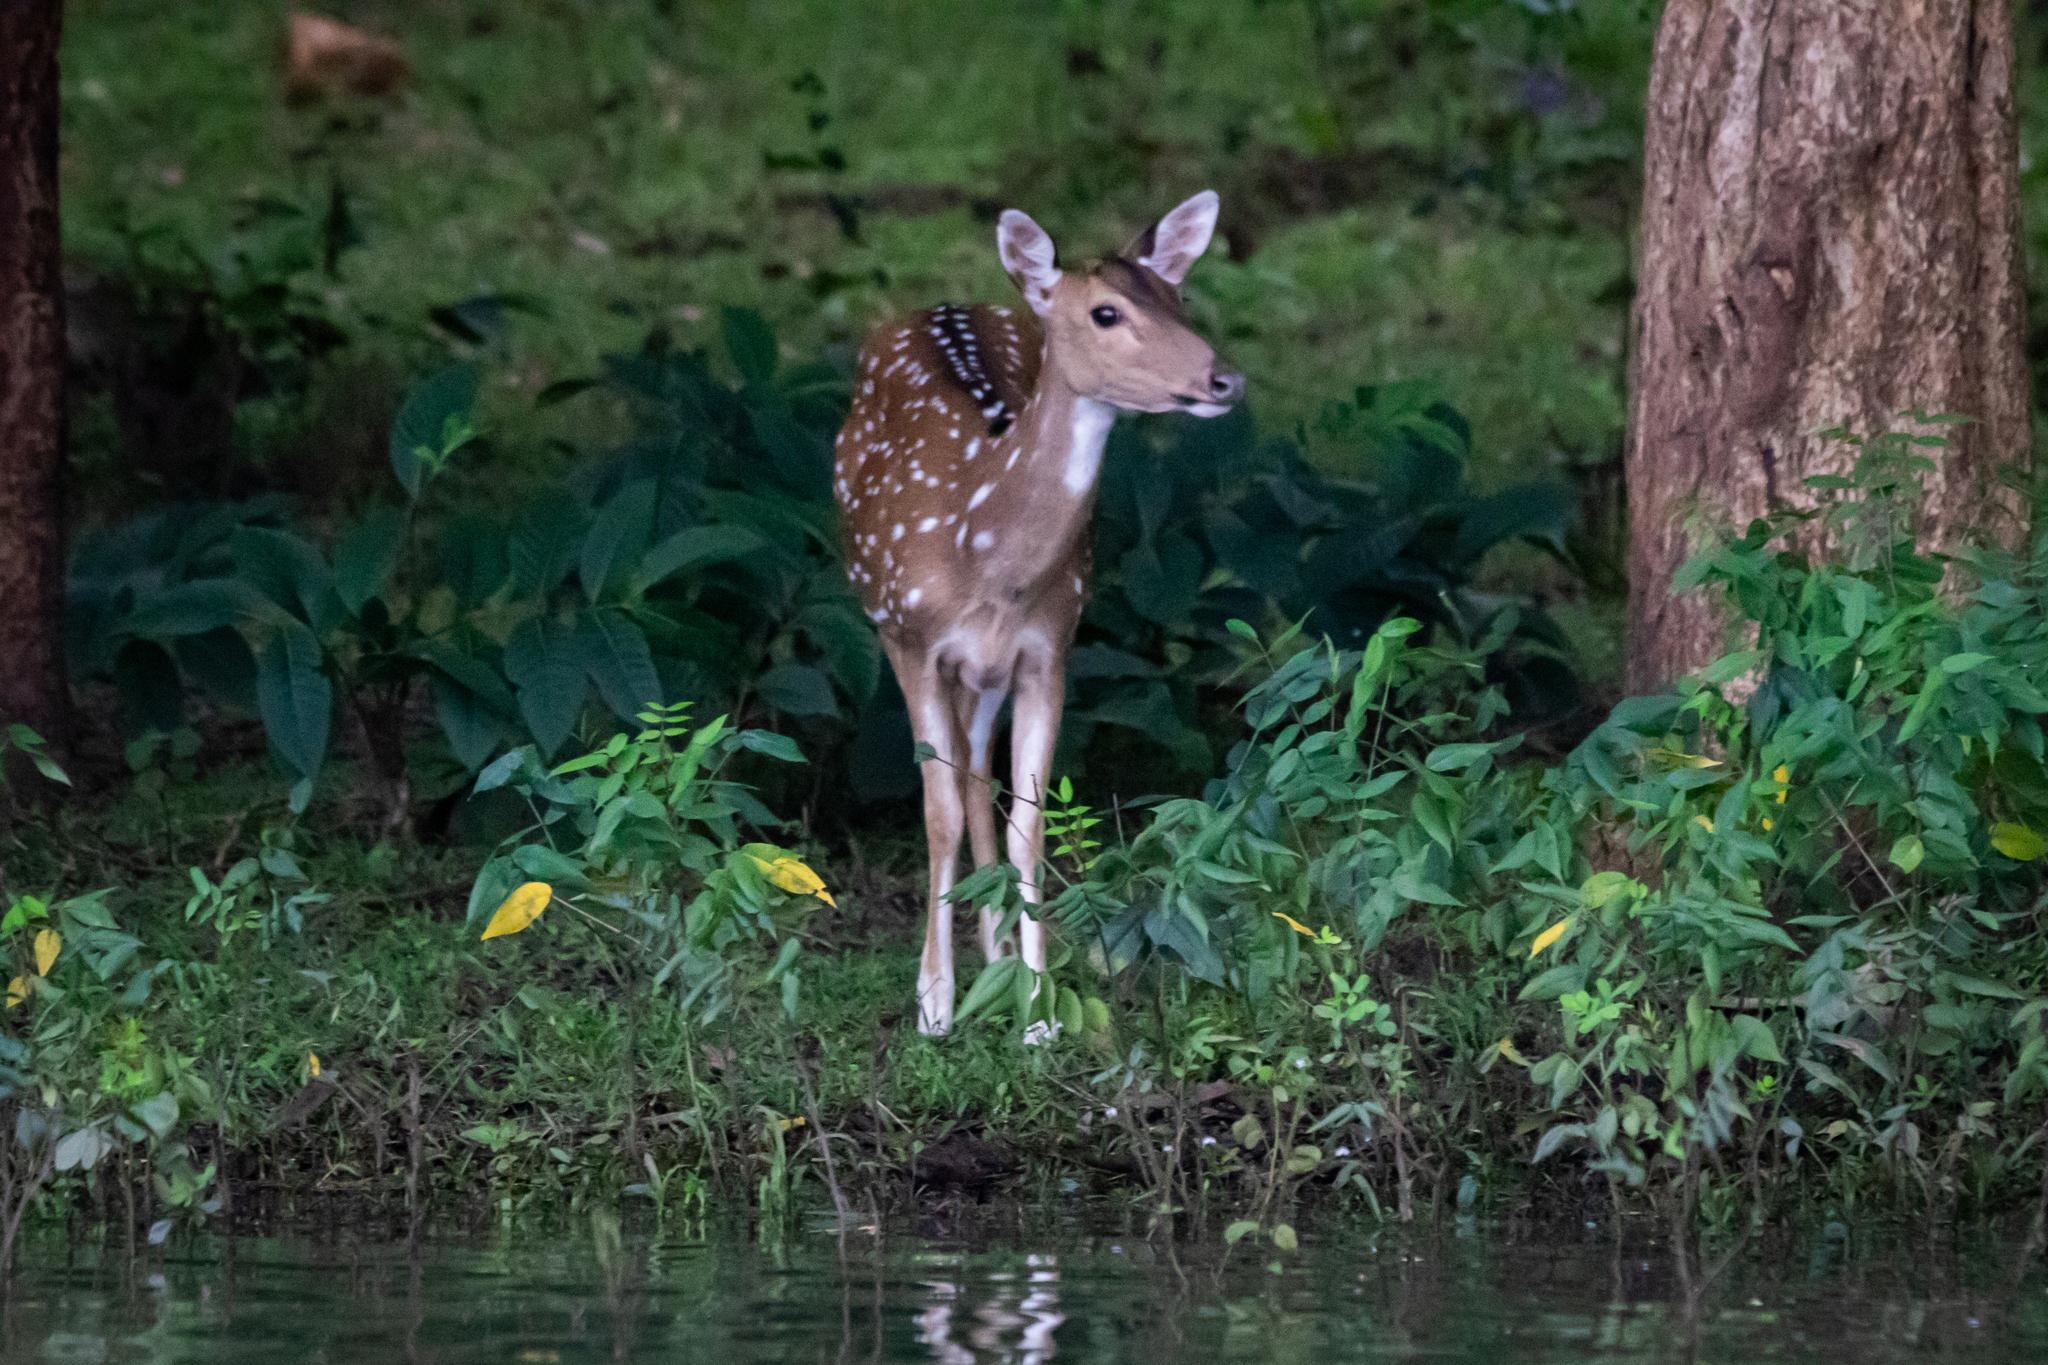Deer: (834, 192, 1243, 1031)
